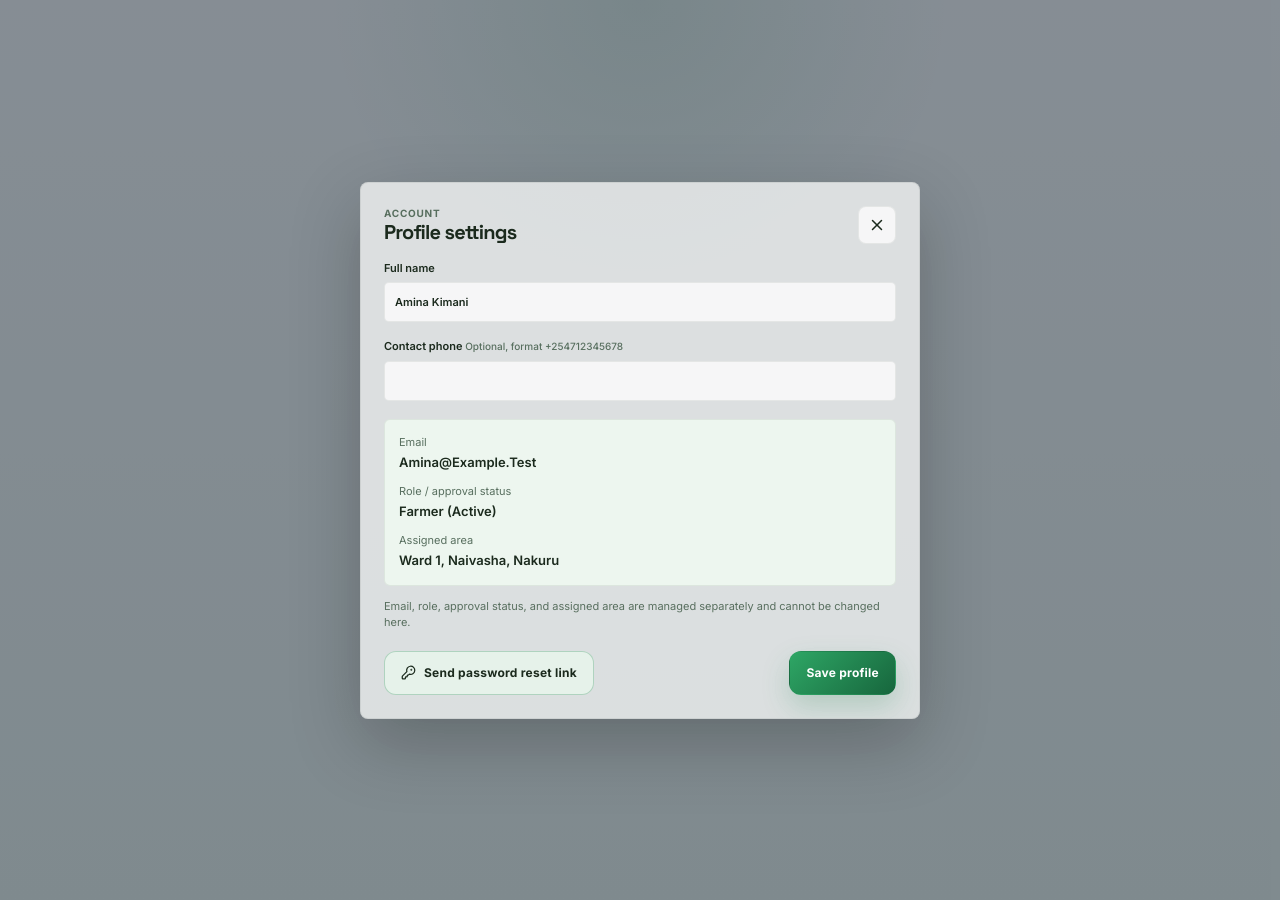
it: ProfileSettings › shows save failures without reporting success
What coordinates should you click on to do the following:
click the button "Save profile"
I would click on:
 (843, 672)
Its box is 790,650 -> 896,694.
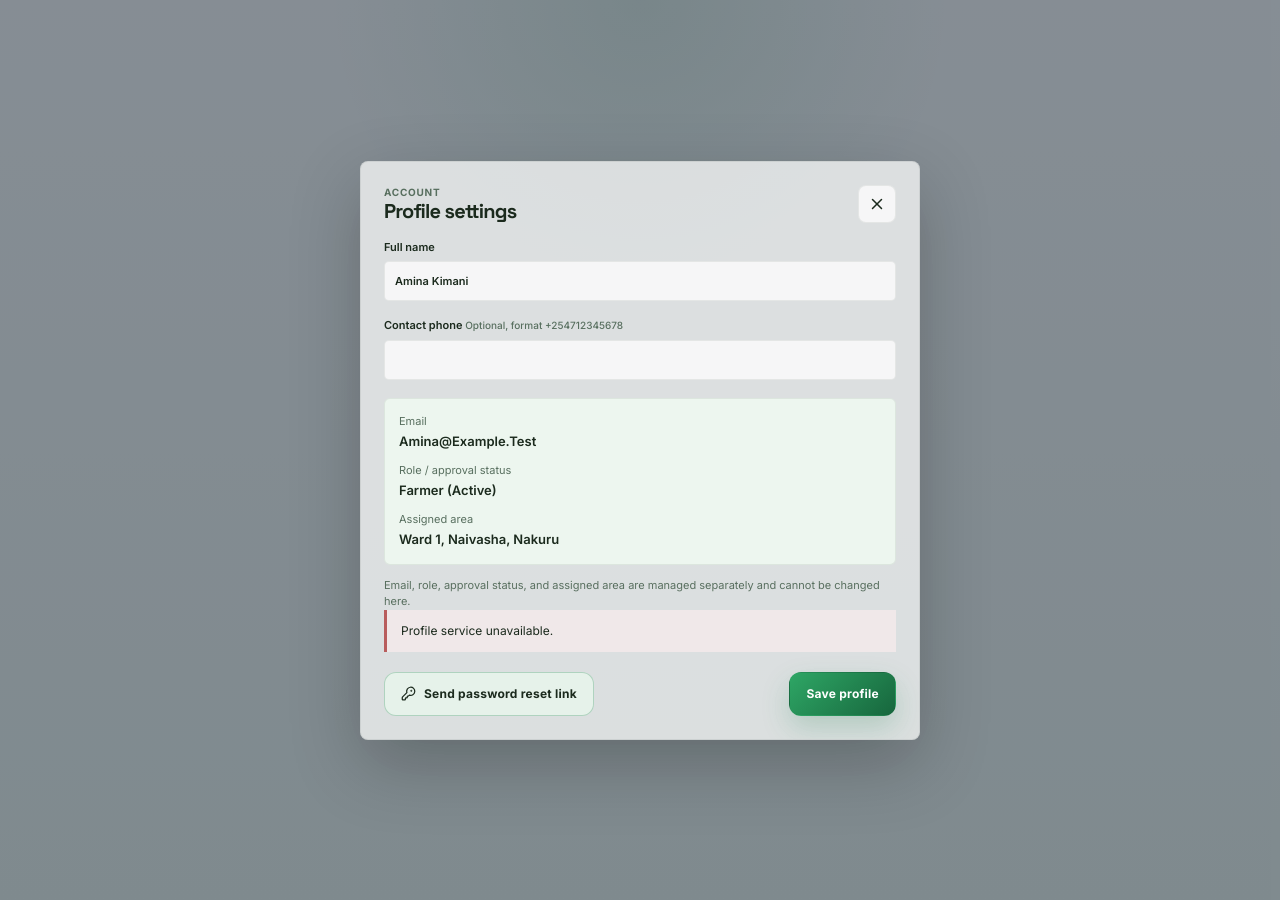
Expected: the message reads "Profile service unavailable.", 401,622 -> 553,638
